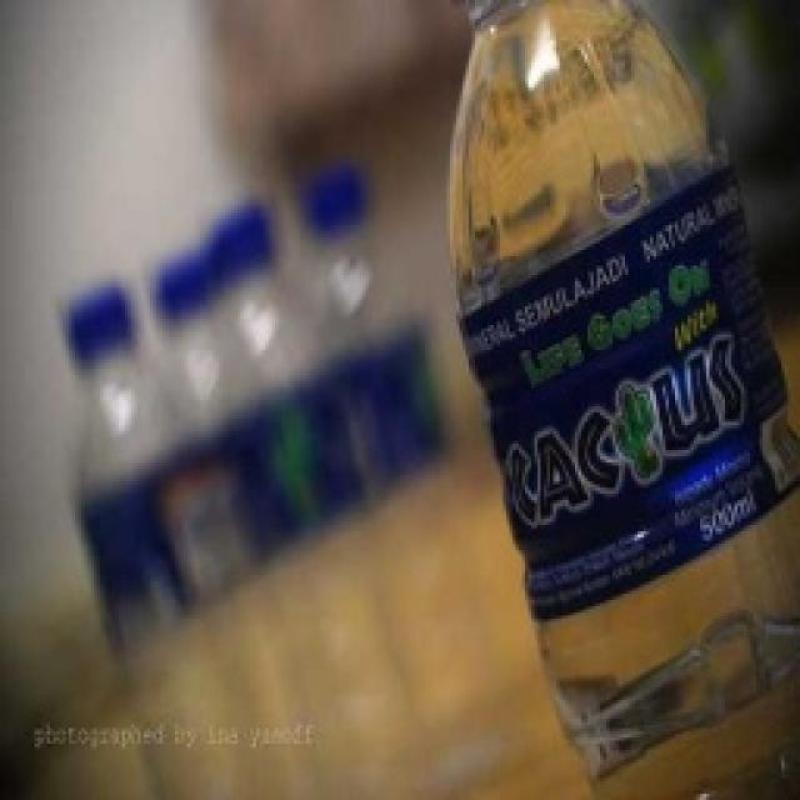botella: (440, 0, 800, 800), (203, 202, 441, 800), (292, 160, 510, 790), (52, 275, 312, 800), (144, 250, 231, 435)
